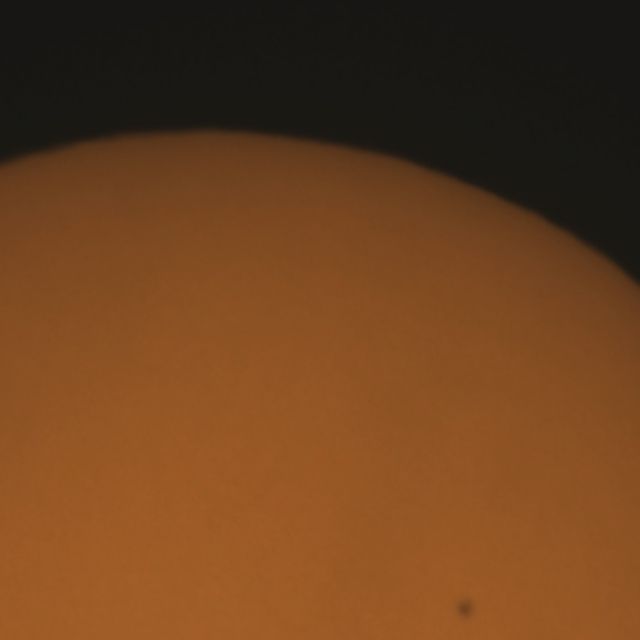sunspot: (454, 596, 476, 622)
